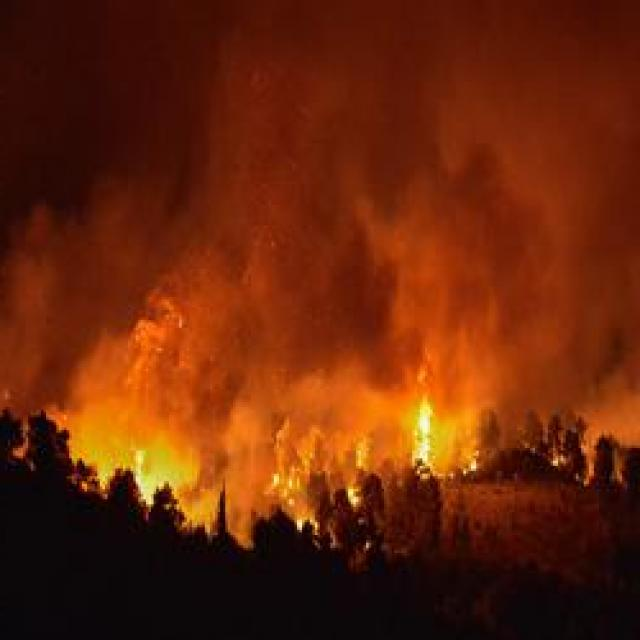fire: (408, 402, 443, 464)
smoke: (366, 157, 502, 381), (0, 206, 101, 414), (488, 188, 554, 360), (56, 175, 152, 262), (65, 339, 153, 426), (290, 366, 404, 420), (226, 366, 292, 450), (218, 406, 272, 502), (589, 363, 640, 439)
